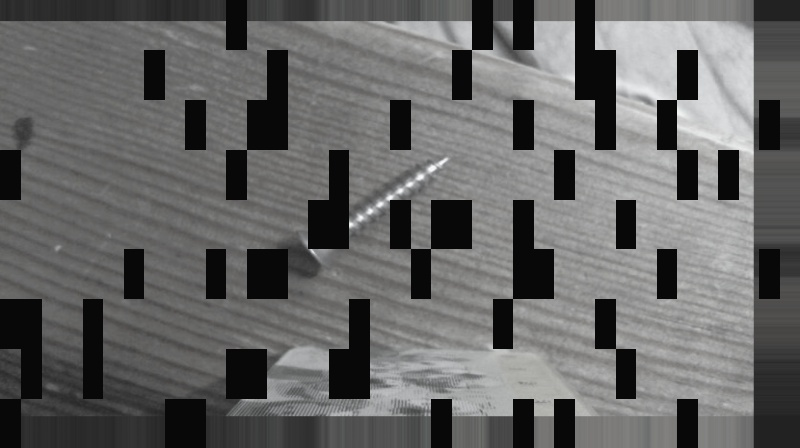S001: (289, 151, 453, 272)
